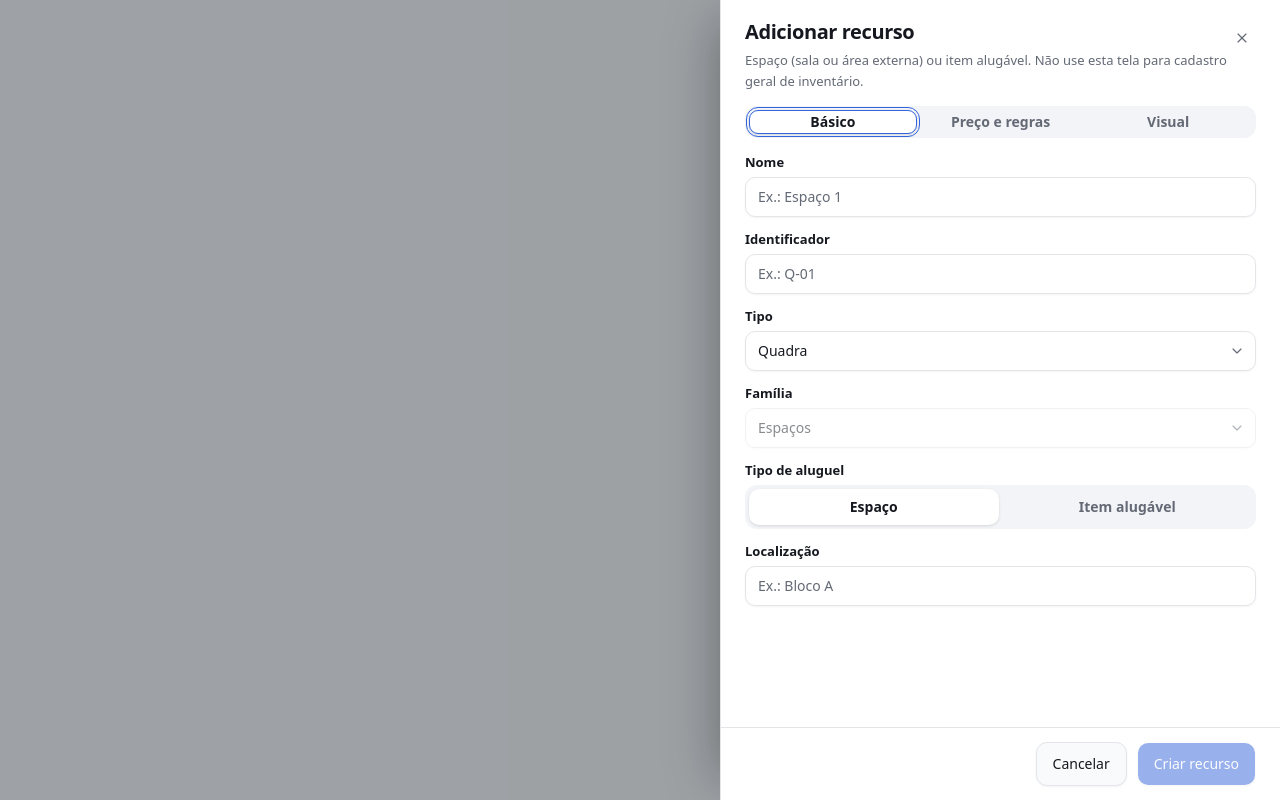
Test: RentalResourceSheet tabs layout › preserves search, segment scope and expandable tag filters
The width and height of the screenshot is (1280, 800).
Click the tab "Visual" at point(1168, 122), box [1084, 110, 1252, 134]
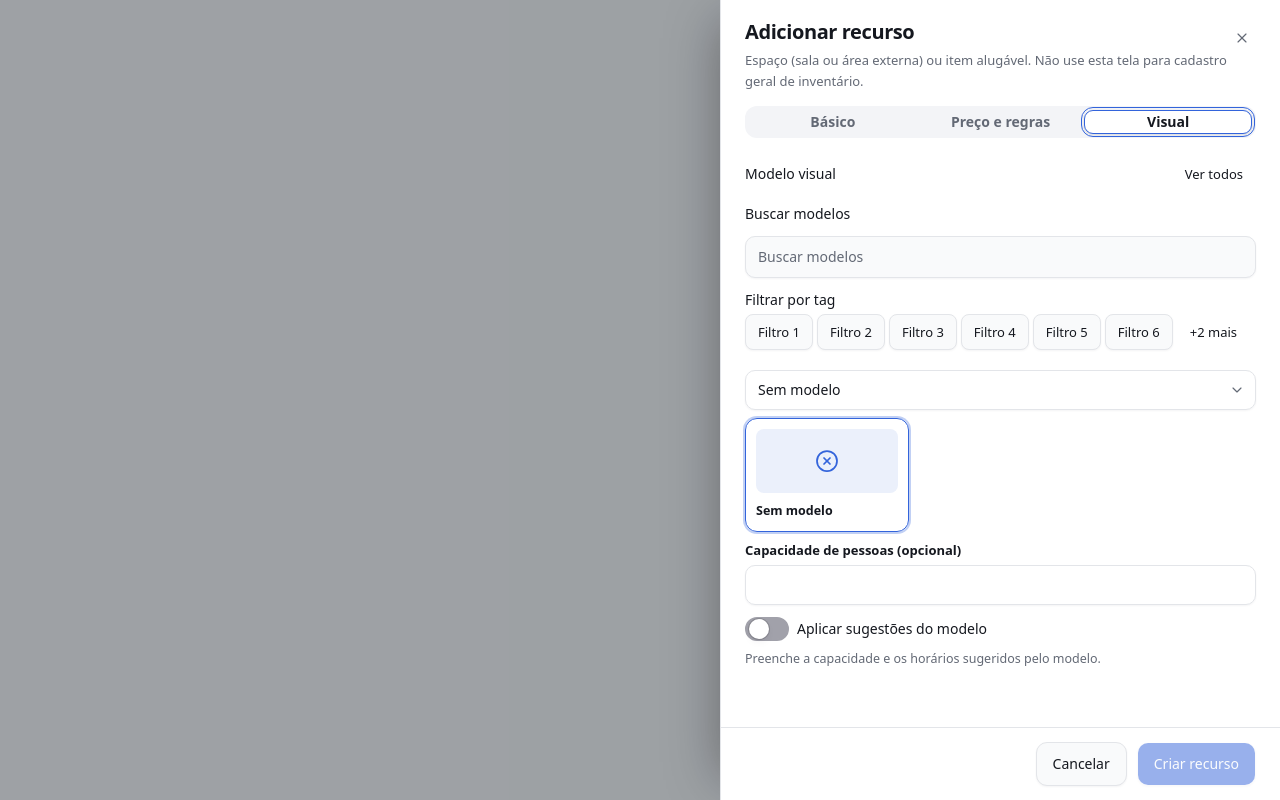
Type "sala" into the field labelled "Buscar modelos" at point(1000, 257), box [745, 236, 1256, 278]
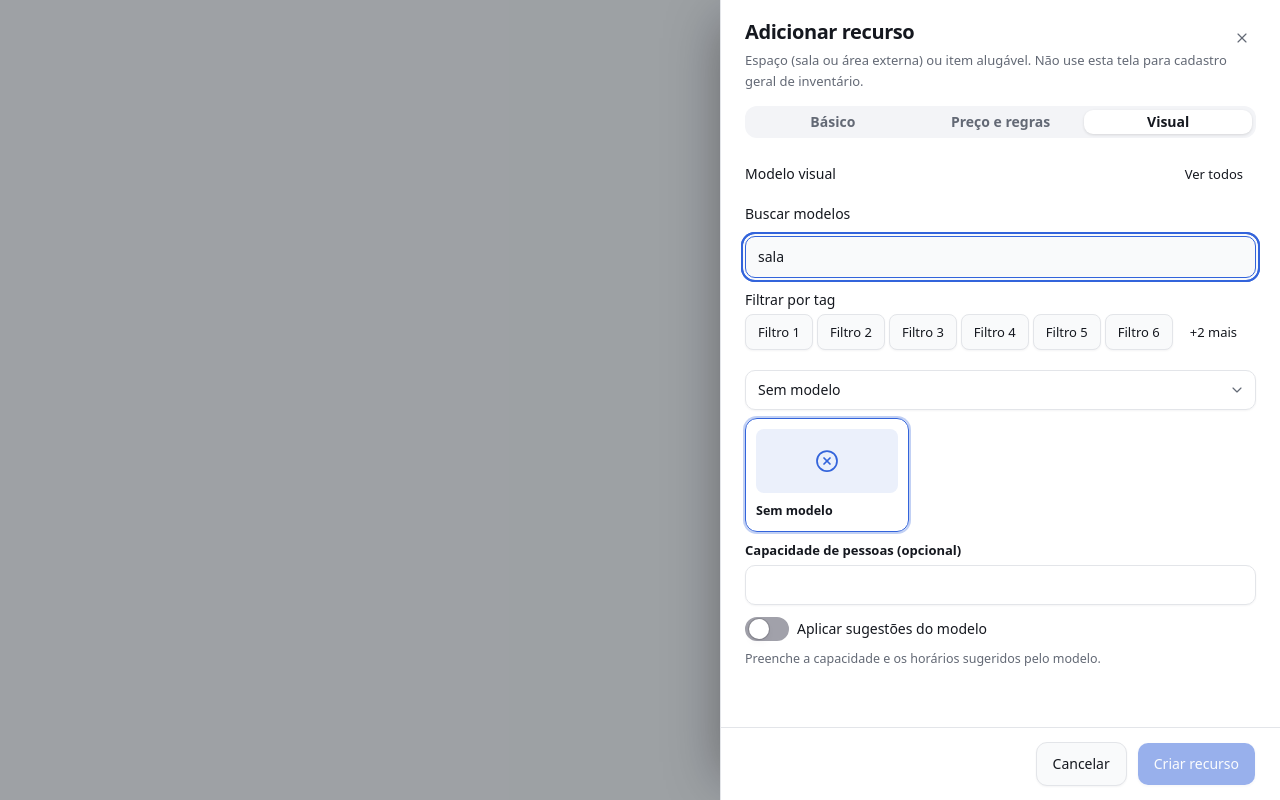
Click the button "Filtro 1" at point(779, 332), box [745, 314, 813, 350]
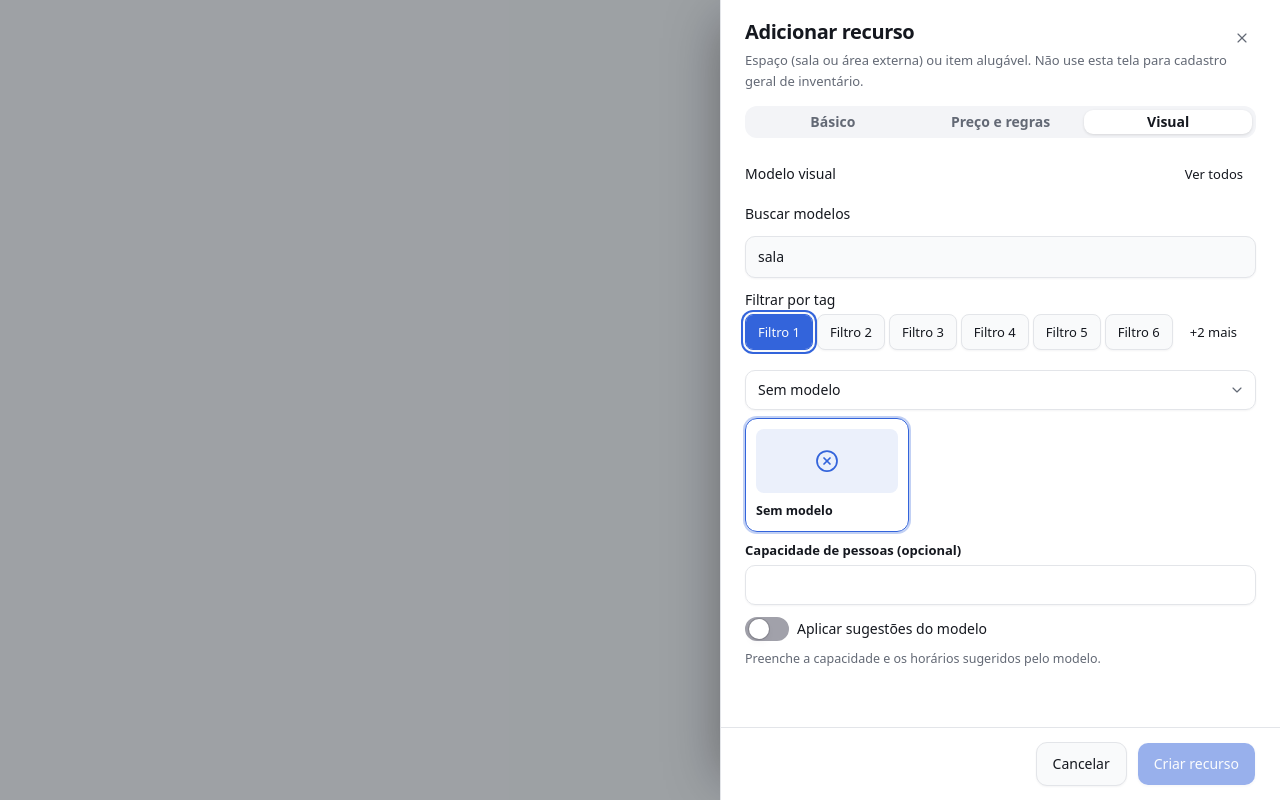
Click the button "Ver todos" at point(1214, 174), box [1172, 156, 1256, 192]
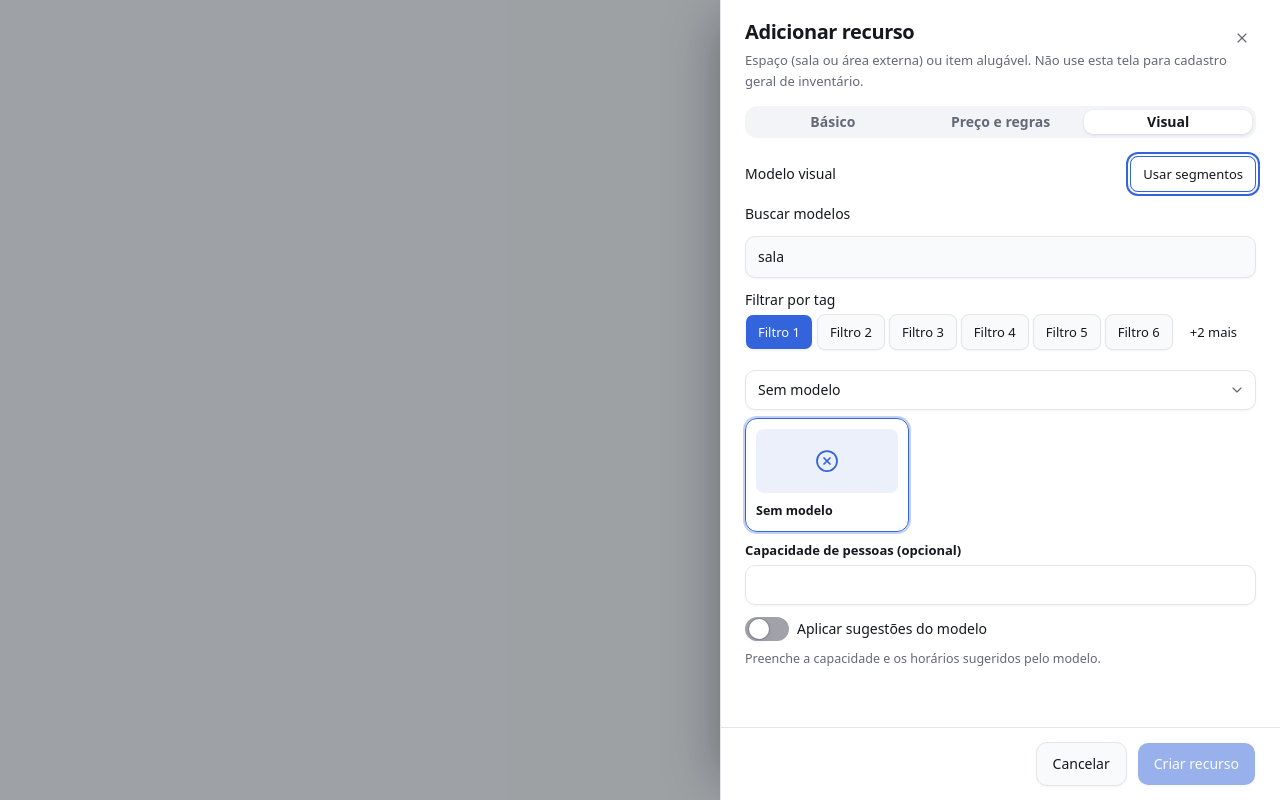
Expected: the button "Filtro 8" is not shown
Click the button "+2 mais" at point(1213, 332), box [1177, 314, 1250, 350]
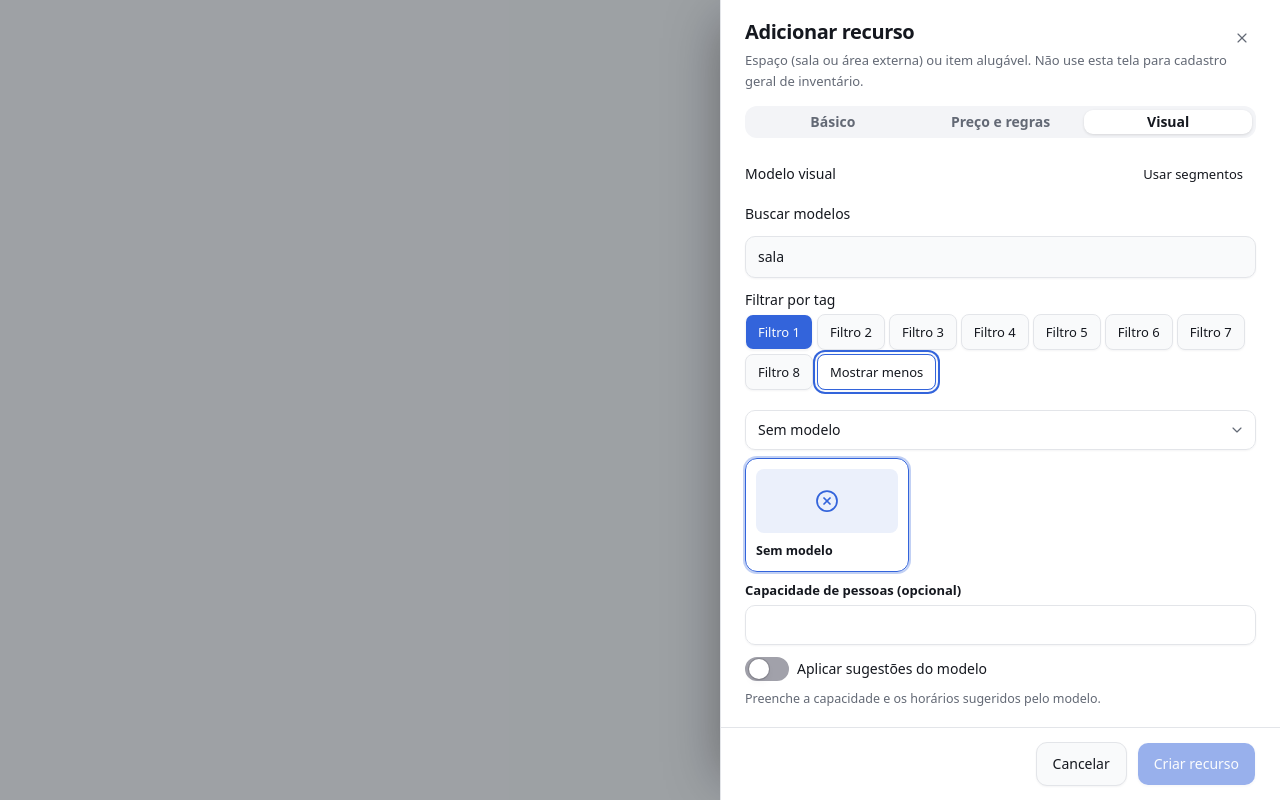
Result: the button "Filtro 8" is shown at [745, 354, 813, 390]
